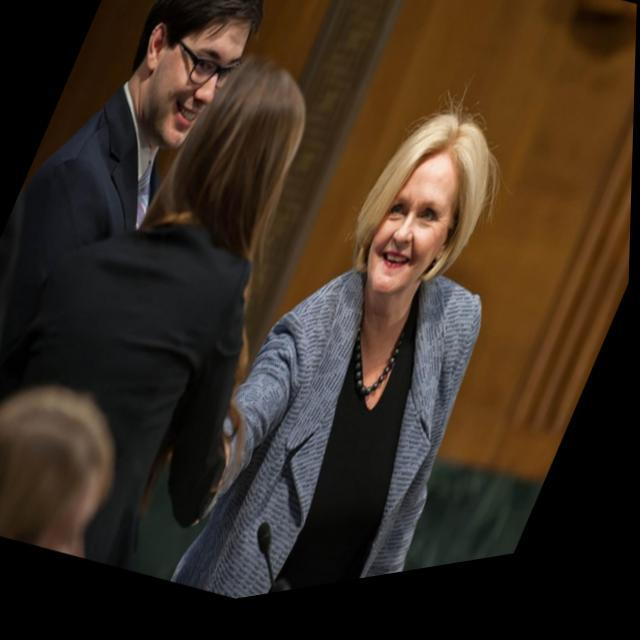Nonhelmet: (349, 104, 499, 296)
